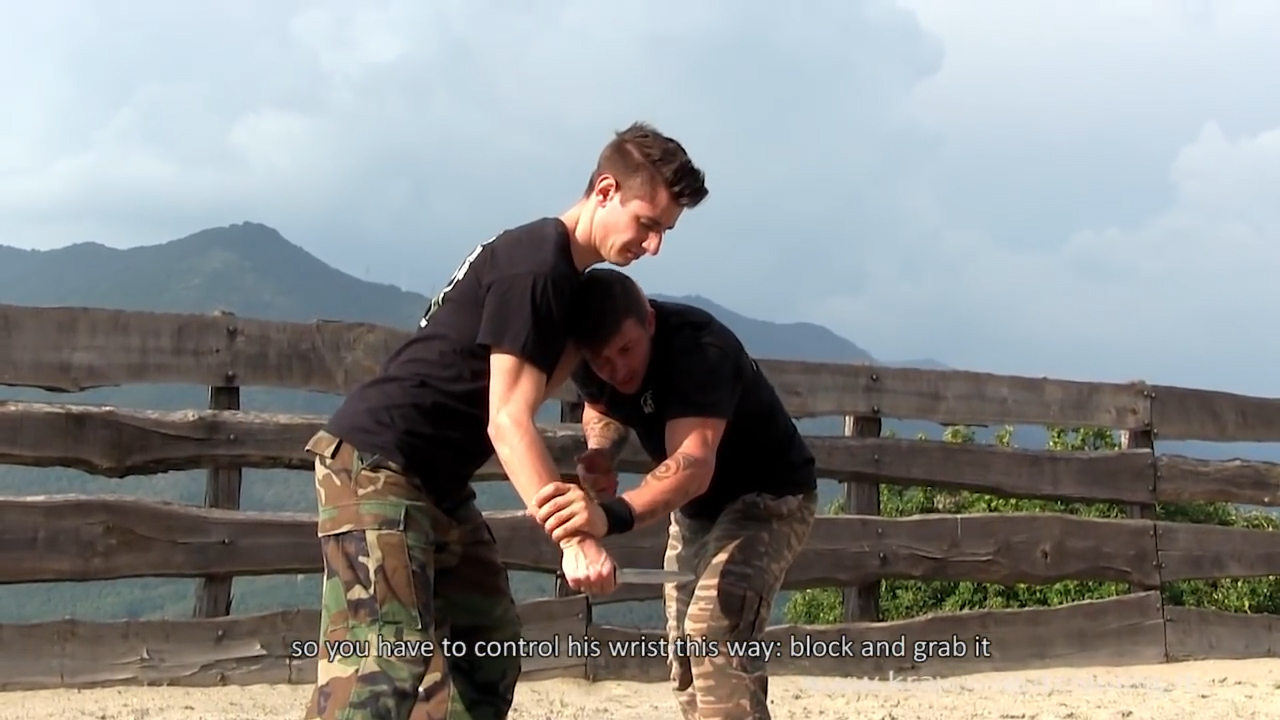knife: (551, 553, 706, 600)
